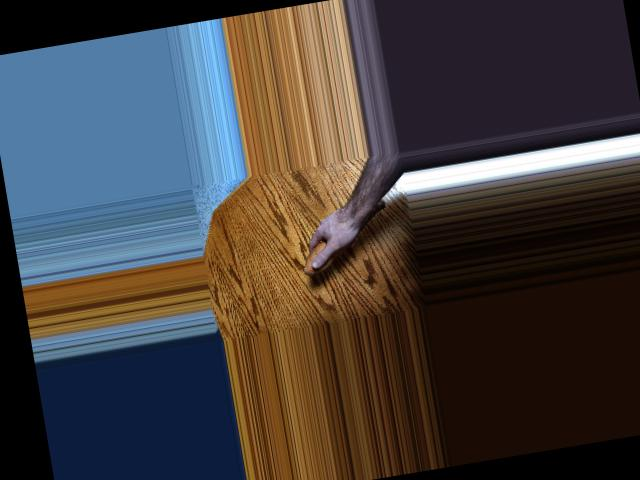sweet_potato: (293, 200, 393, 277)
